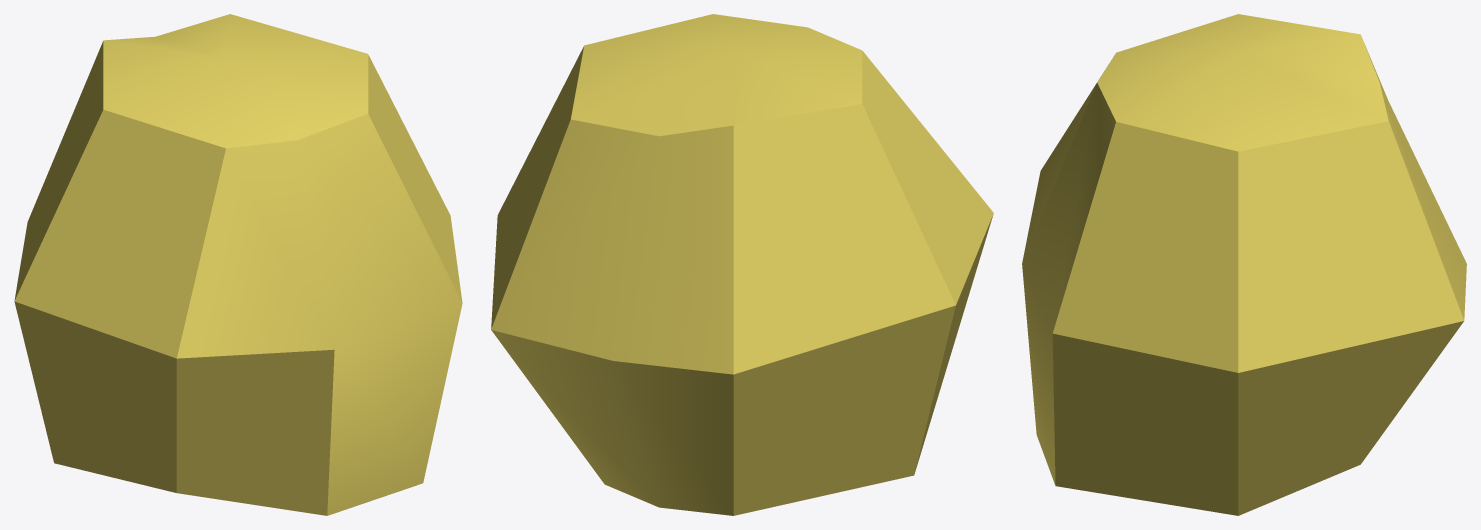
The model's file is FoodPieceAutoSmooth_AppleCore.fbx.
3 views of the same model, side by side, from view 1: azimuth 30°, elevation 25°; view 2: azimuth 150°, elevation 25°; view 3: azimuth 270°, elevation 25° (orthographic). The views are drawn at different scales.
Parts seen in each view (by area): view 1: Sphere.006; view 2: Sphere.006; view 3: Sphere.006.
Part boxes in pixels (x1,y1,x2,y2): Sphere.006: (14, 14, 462, 515); Sphere.006: (491, 14, 993, 515); Sphere.006: (1022, 14, 1466, 515).
Bounding box in the file's own units: 4.19 × 3.61 × 3.71.
